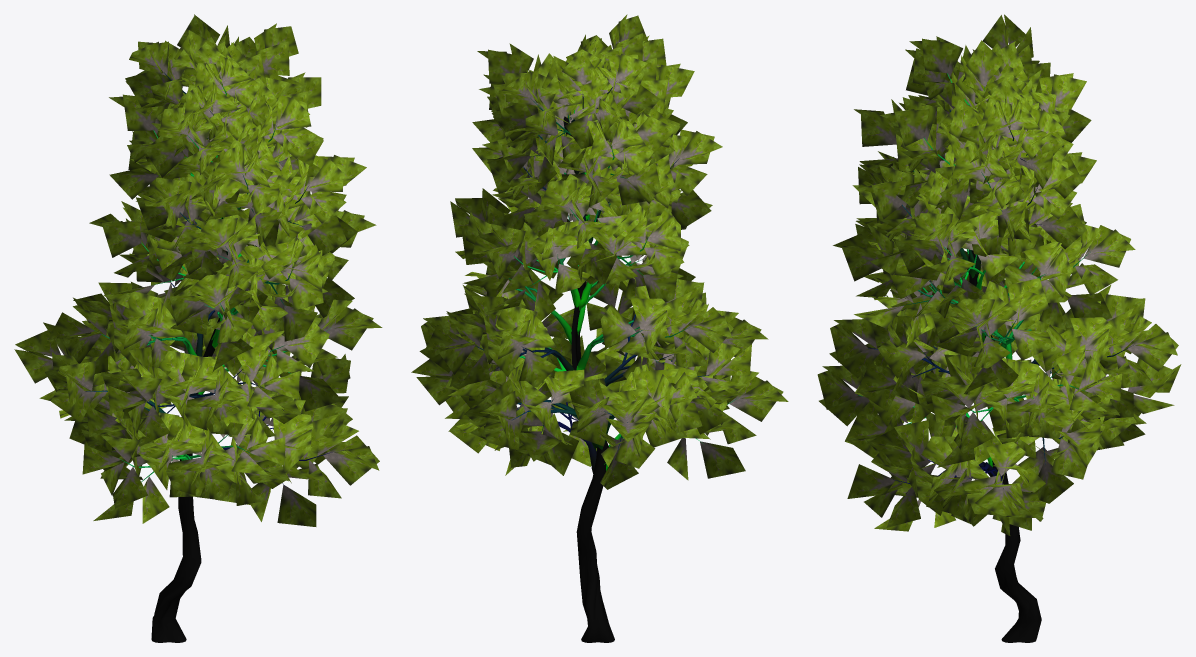
File: ElmTree05.fbx
3 views of the same model, side by side, from view 1: azimuth 30°, elevation 25°; view 2: azimuth 150°, elevation 25°; view 3: azimuth 270°, elevation 25° (orthographic). The views are drawn at different scales.
Parts seen in each view (by area): view 1: Tree_1, Tree_0; view 2: Tree_1, Tree_0; view 3: Tree_1, Tree_0.
Part boxes in pixels (<box>): Tree_1: <box>14,14,382,526</box>; Tree_0: <box>86,72,332,642</box>; Tree_1: <box>411,14,788,489</box>; Tree_0: <box>468,82,735,642</box>; Tree_1: <box>817,14,1181,535</box>; Tree_0: <box>858,73,1133,642</box>.
Bounding box in the file's own units: 63.72 × 115 × 62.66.
